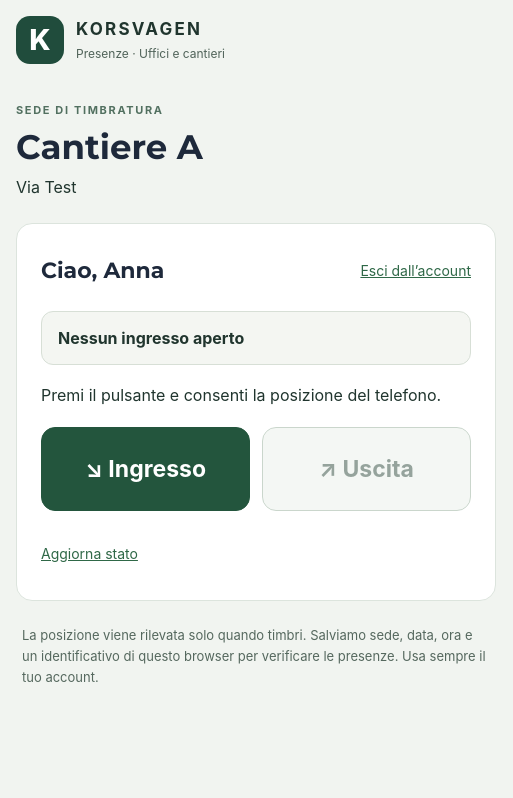
Scenario: a server-rejected geofence stamp cannot appear as a successful entry
This screenshot has width=513, height=798.
Click the button "↘ Ingresso": {"x": 146, "y": 469} [41, 427, 250, 511]
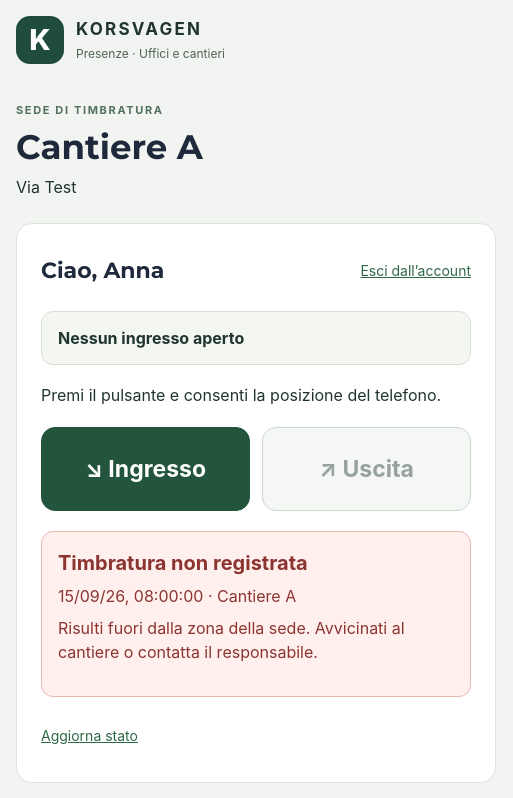
Expected: the text "Timbratura non registrata" is shown, [58, 551, 308, 575]
Expected: the text "Risulti fuori dalla zona" is shown, [58, 618, 405, 662]
